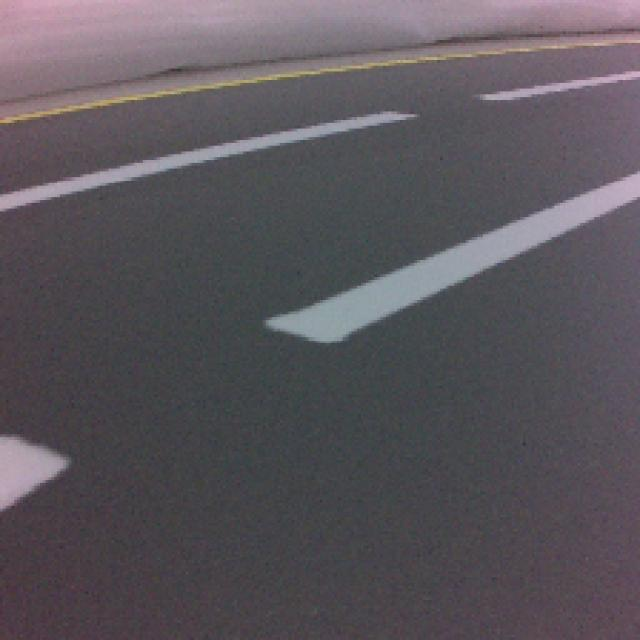Guard rail: (272, 170, 640, 343), (0, 435, 69, 507)
